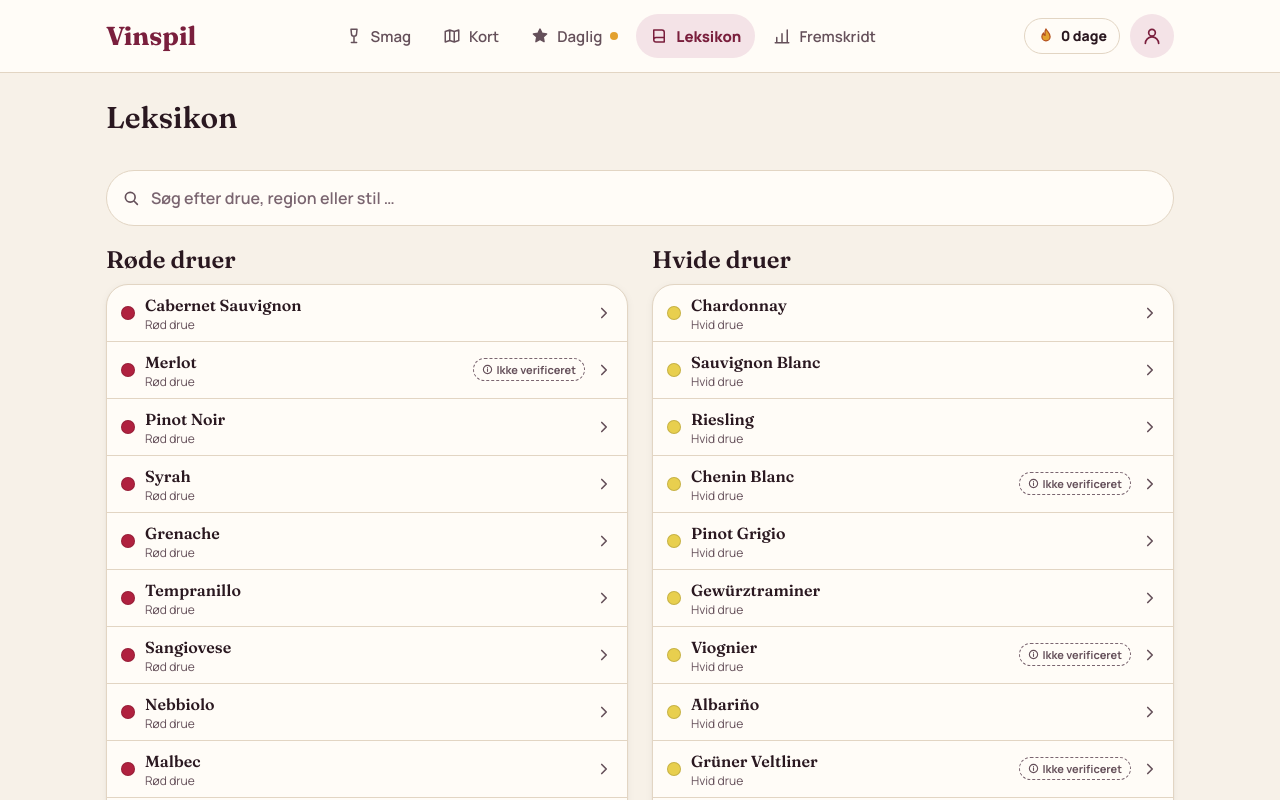
Scenario: LexiconPage › searches across kinds, accent-insensitively
The width and height of the screenshot is (1280, 800).
Type "rias" into the search field. click: coordinates (640, 198)
box: 106,170 -> 1174,226
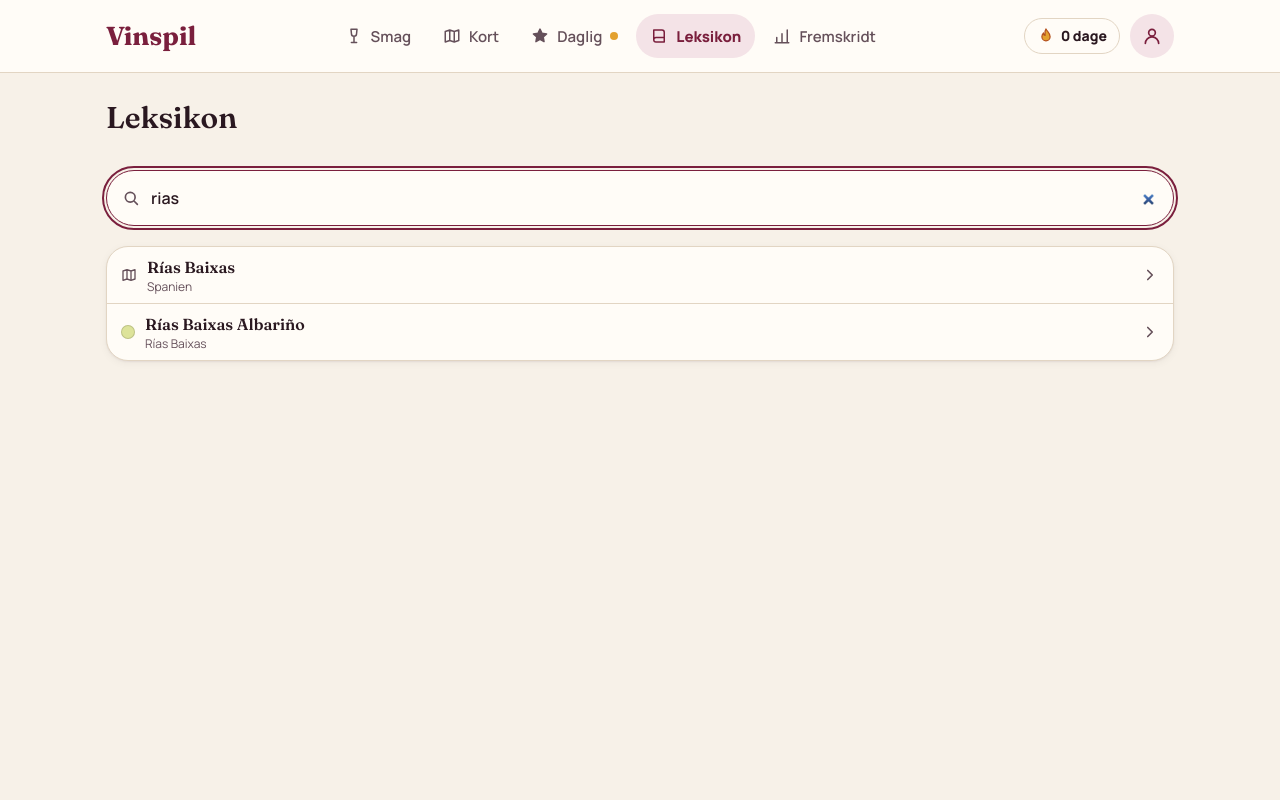
expect the heading "Røde druer" is gone: met
Replace the text in the search field with "zzzz". click: coordinates (640, 198)
box: 106,170 -> 1174,226
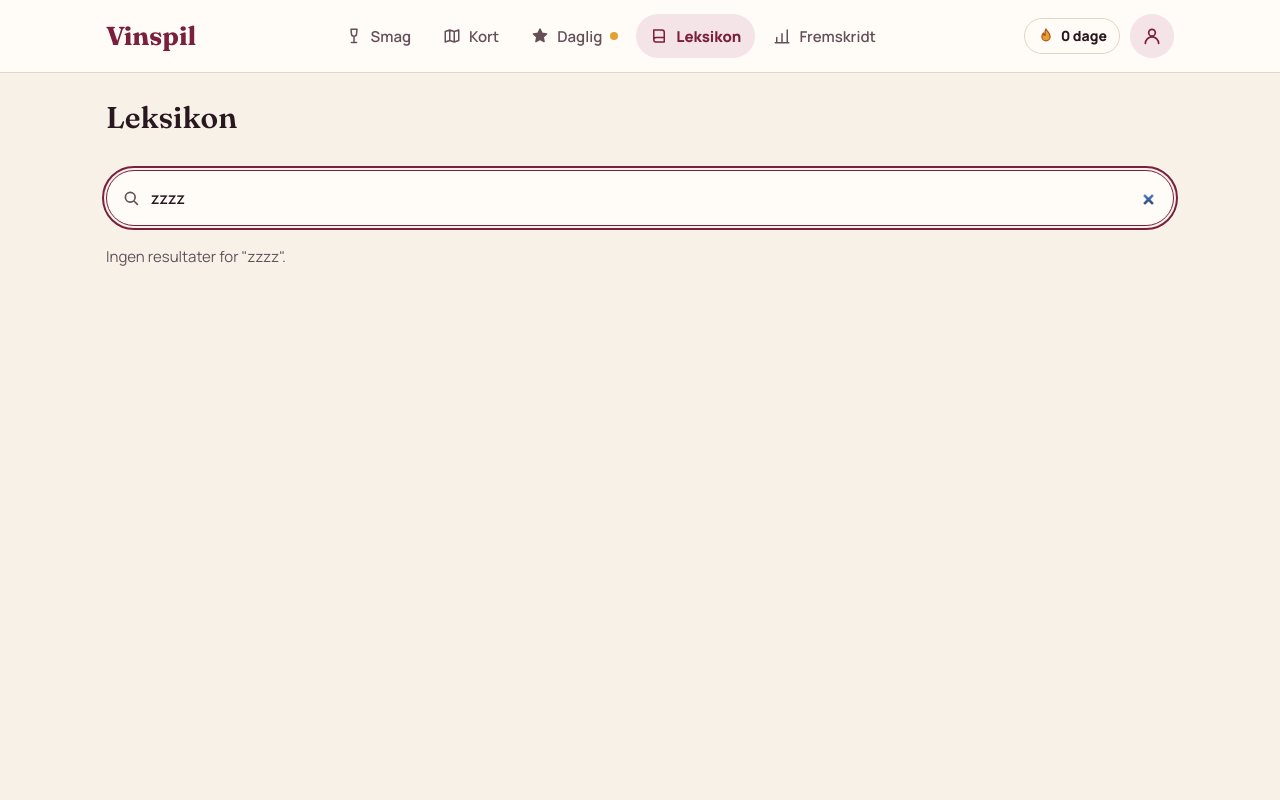
expect the text "Ingen resultater for \"zzzz\"." is shown: met, box 106,246 -> 286,267
